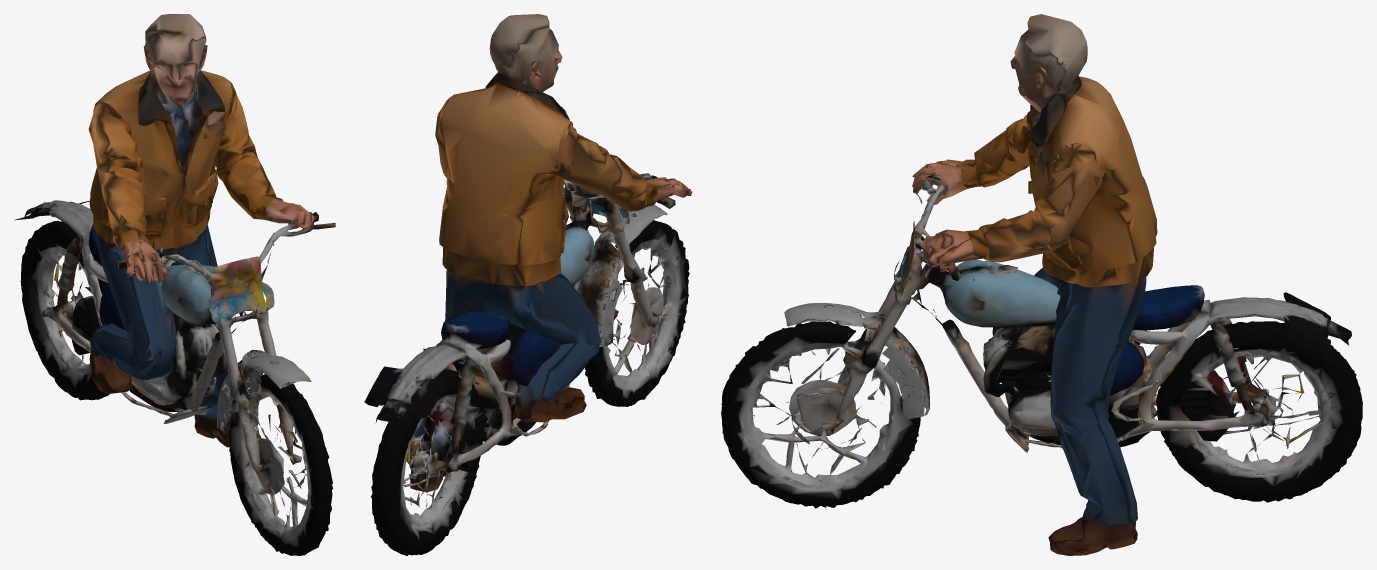
File: rider_sammy.glb
3 views of the same model, side by side, from view 1: azimuth 30°, elevation 25°; view 2: azimuth 150°, elevation 25°; view 3: azimuth 270°, elevation 25° (orthographic). The views are drawn at different scales.
Parts seen in each view (by area): view 1: rider_sammy; view 2: rider_sammy; view 3: rider_sammy.
Boxes of the visible parts, x1,y1,x2,y2 form: rider_sammy: (14, 14, 335, 555); rider_sammy: (364, 14, 692, 555); rider_sammy: (721, 14, 1362, 555).
Size of the model in its own units: 0.8387 by 1.75 by 2.09.
